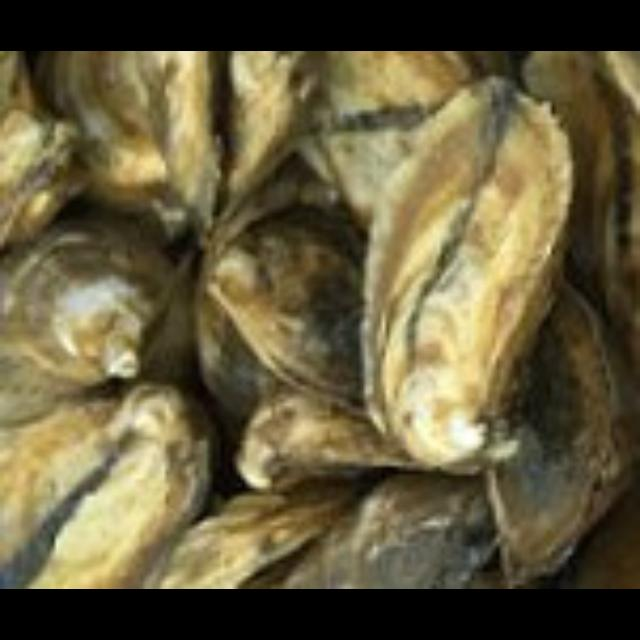Oyster-Closed: (361, 81, 576, 471), (486, 286, 622, 565), (516, 51, 636, 321), (211, 206, 364, 415), (0, 217, 177, 395), (293, 475, 491, 585), (216, 51, 327, 222), (41, 51, 174, 180), (242, 401, 440, 482), (0, 51, 78, 242), (159, 51, 216, 221)
Oyster-Open: (0, 395, 209, 585), (301, 51, 461, 222), (159, 484, 361, 585)
